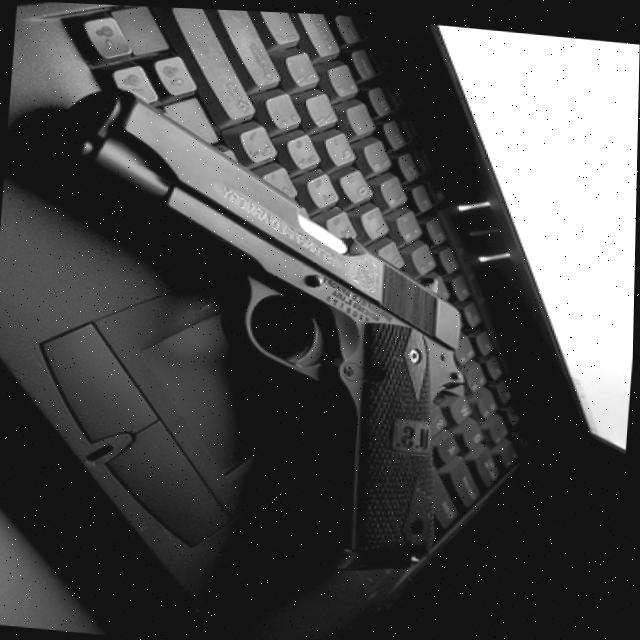pistol: (15, 77, 490, 582)
